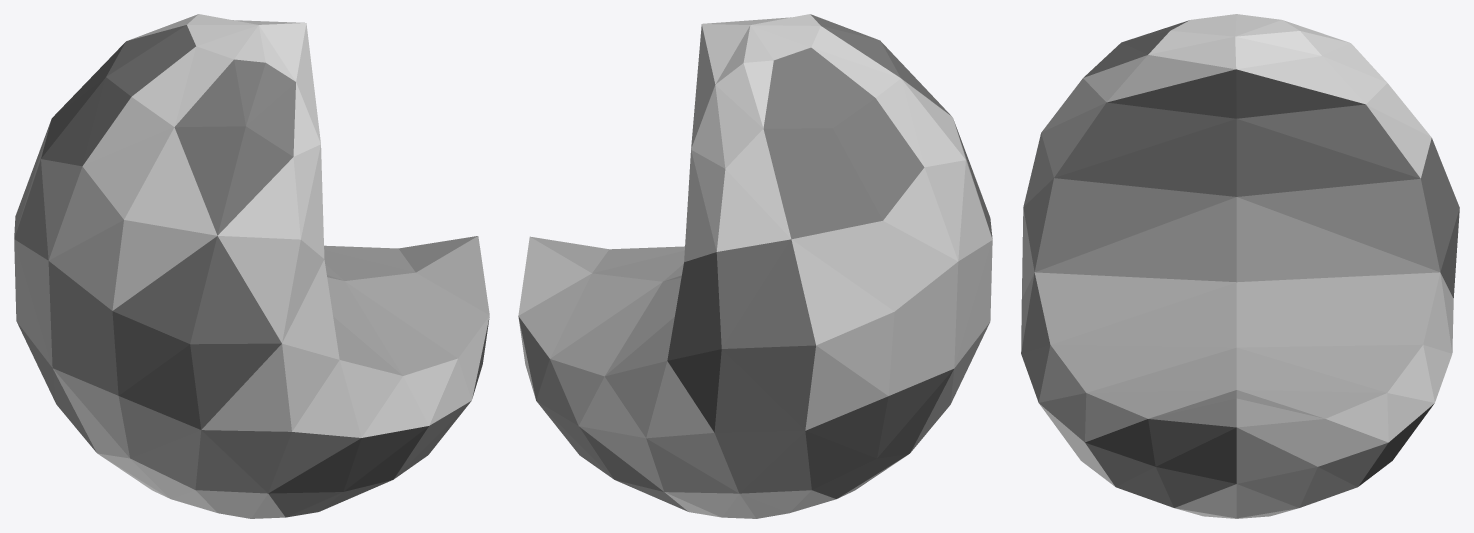
The model's file is Moon.fbx.
3 renders of one model, left to right at view 1: azimuth 30°, elevation 25°; view 2: azimuth 150°, elevation 25°; view 3: azimuth 270°, elevation 25°, orthographic. The views are drawn at different scales.
Parts seen in each view (by area): view 1: Sphere; view 2: Sphere; view 3: Sphere.
Part boxes in pixels (bbox=[...]): Sphere: bbox=[14, 14, 489, 518]; Sphere: bbox=[518, 14, 992, 518]; Sphere: bbox=[1021, 14, 1459, 518].
Bounding box in the file's own units: 184 × 190 × 167.
